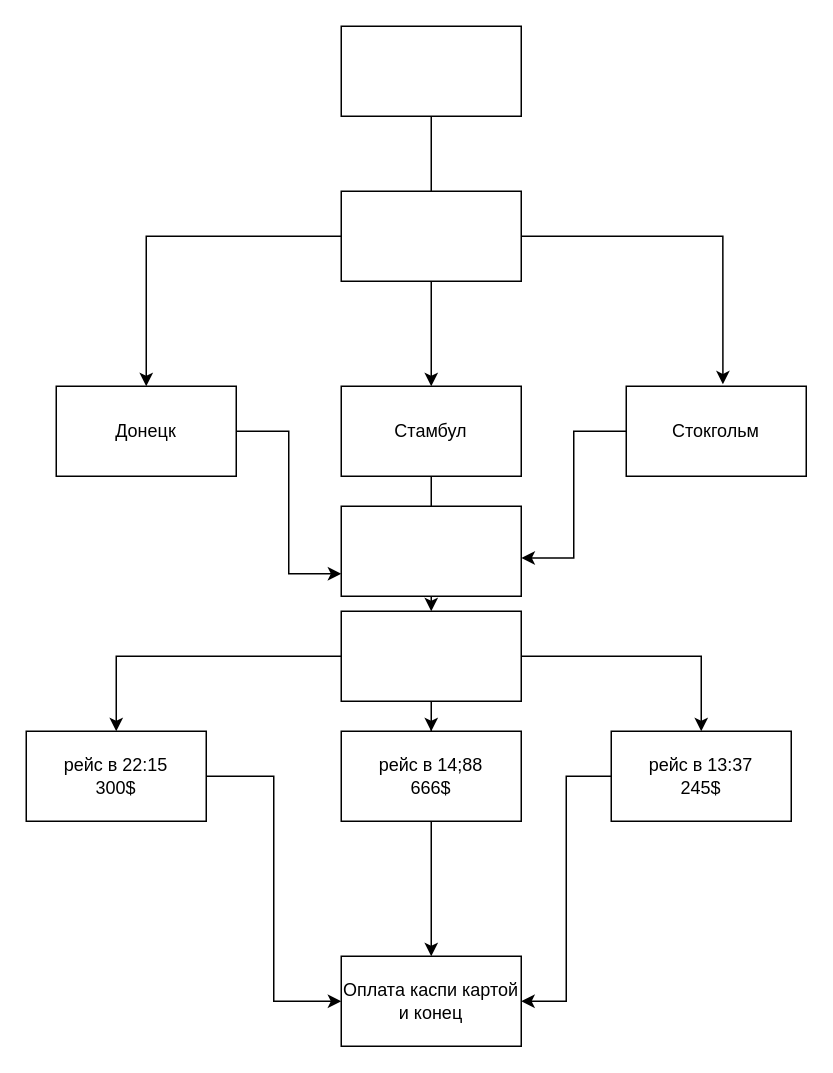
This 833x1073 diagram has some shape labels left out. The shapes that lost their labels are listed below. From the top down, each one's centre as x and y in pixels, then its label:
point 430,70: начало
point 430,235: выбор города
point 430,550: дата поездки
point 430,655: выбор рейса и цены
